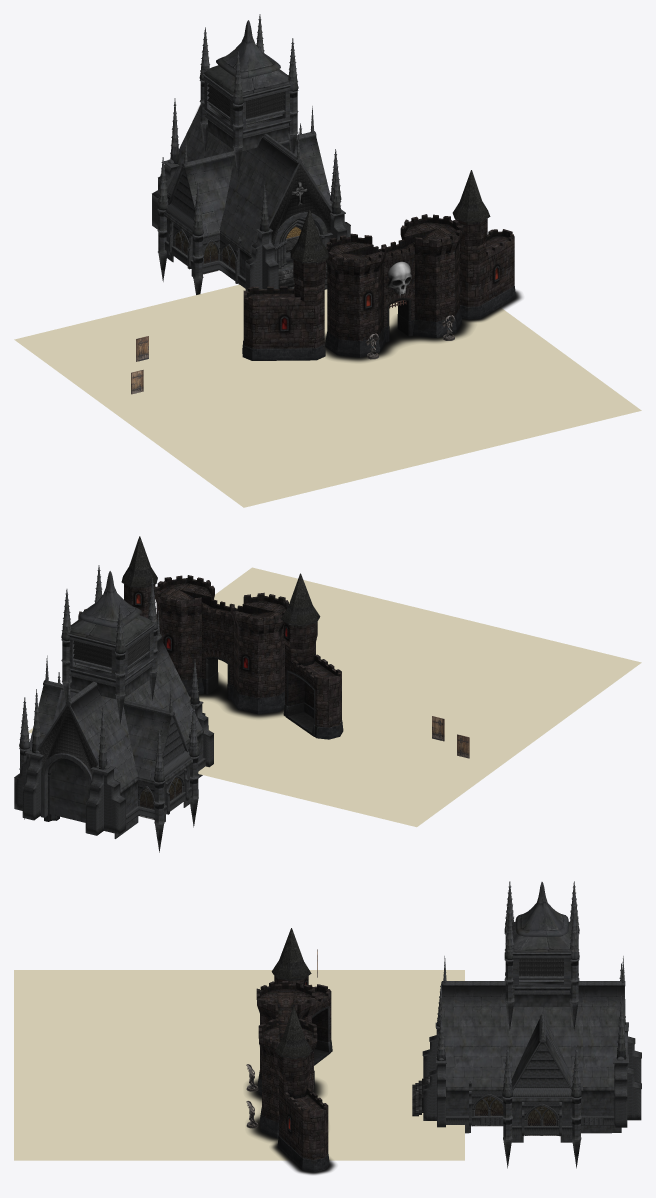
3 renders of one model, top to bottom at view 1: azimuth 30°, elevation 25°; view 2: azimuth 150°, elevation 25°; view 3: azimuth 270°, elevation 25°, orthographic. The views are drawn at different scales.
Visible parts, largest first — view 1: Terrain 2,5, PRAVDA dark couture (×12), Bloodlines Castle#13, Bloodlines Castle#4, Bloodlines Castle#10; view 2: Terrain 2,5, PRAVDA dark couture (×19), Bloodlines Castle#13, Bloodlines Castle#4, Bloodlines Castle#10; view 3: Terrain 2,5, PRAVDA dark couture (×22), Bloodlines Castle#10, Bloodlines Castle#13, Bloodlines Castle#4.
Boxes of the visible parts, <box> form: Terrain 2,5: <box>14,284,641,507</box>; PRAVDA dark couture (×12): <box>166,20,331,291</box>; Bloodlines Castle#13: <box>324,214,473,361</box>; Bloodlines Castle#4: <box>242,209,328,360</box>; Bloodlines Castle#10: <box>452,170,522,322</box>; Terrain 2,5: <box>28,567,641,827</box>; PRAVDA dark couture (×19): <box>14,571,213,838</box>; Bloodlines Castle#13: <box>153,575,288,718</box>; Bloodlines Castle#4: <box>281,573,343,739</box>; Bloodlines Castle#10: <box>78,536,157,619</box>; Terrain 2,5: <box>14,970,464,1160</box>; PRAVDA dark couture (×22): <box>412,882,641,1135</box>; Bloodlines Castle#10: <box>271,1007,335,1174</box>; Bloodlines Castle#13: <box>246,981,324,1142</box>; Bloodlines Castle#4: <box>271,928,332,1065</box>.
Bounding box in the file's own units: 71.73 × 39.75 × 89.14.
Materials: 56 (53 with a texture image).
